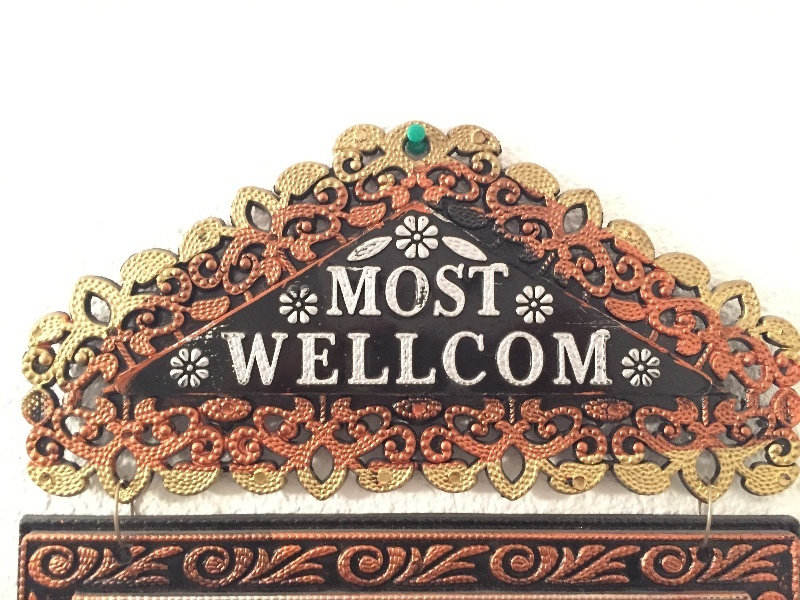text: (225, 329, 240, 387), (241, 329, 256, 387), (257, 329, 272, 387), (273, 329, 288, 387), (289, 329, 304, 387), (305, 329, 320, 387), (321, 329, 336, 387), (337, 329, 352, 387), (353, 329, 368, 387), (369, 329, 384, 387), (385, 329, 400, 387), (401, 329, 416, 387), (417, 329, 432, 387), (433, 329, 448, 387), (449, 329, 464, 387), (465, 329, 480, 387), (481, 329, 496, 387), (497, 329, 512, 387), (513, 329, 528, 387), (529, 329, 544, 387), (545, 329, 560, 387), (561, 329, 576, 387), (577, 329, 592, 387), (593, 329, 608, 387), (337, 263, 352, 318), (353, 263, 368, 318), (369, 263, 384, 318), (385, 263, 400, 318), (401, 263, 416, 318), (417, 263, 432, 318), (433, 263, 448, 318), (449, 263, 464, 318), (465, 263, 480, 318), (481, 263, 496, 318), (497, 263, 510, 318), (326, 263, 336, 318), (609, 329, 613, 387), (221, 329, 224, 387)
